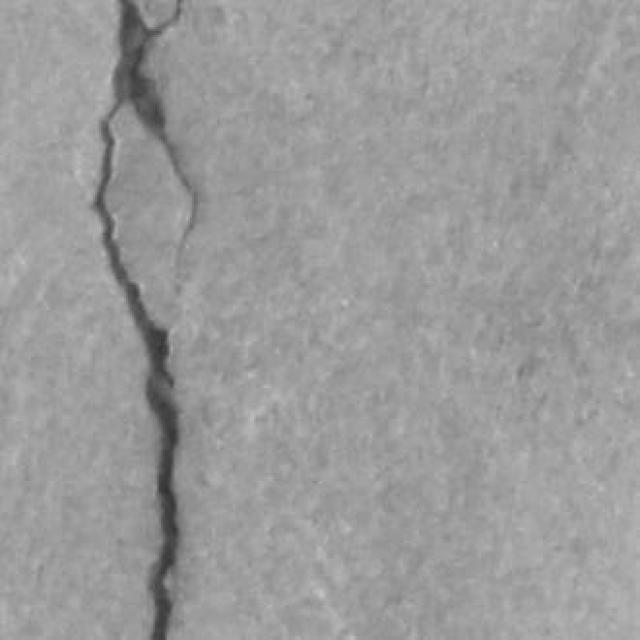crack: (94, 0, 193, 639), (115, 0, 199, 279)
